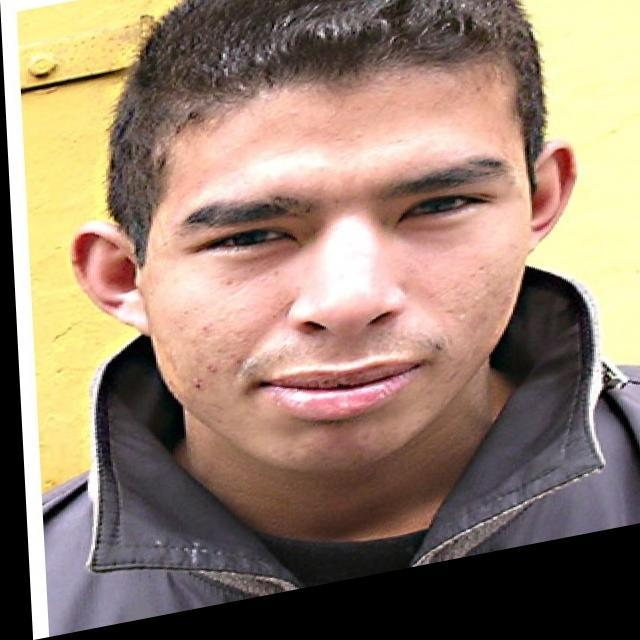Nonhelmet: (67, 0, 618, 483)
